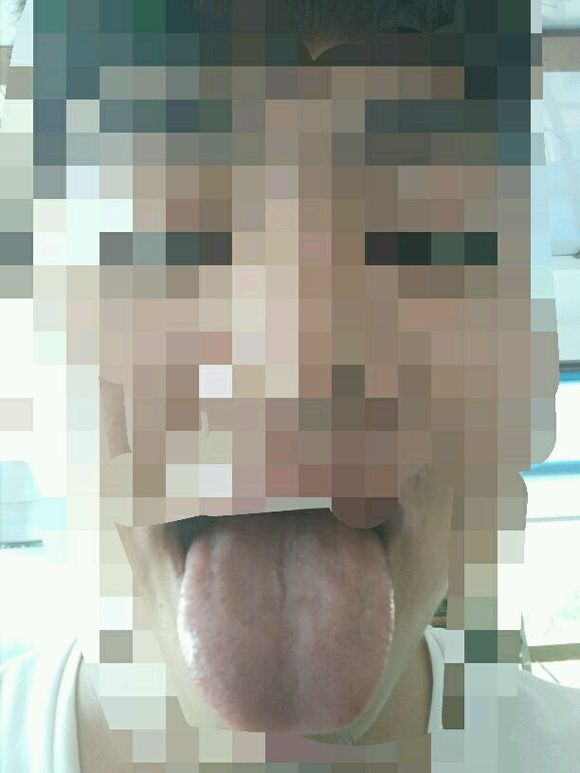baitaishe: (178, 515, 394, 733)
gandanao: (179, 527, 227, 646)
liewenshe: (272, 522, 289, 618)
